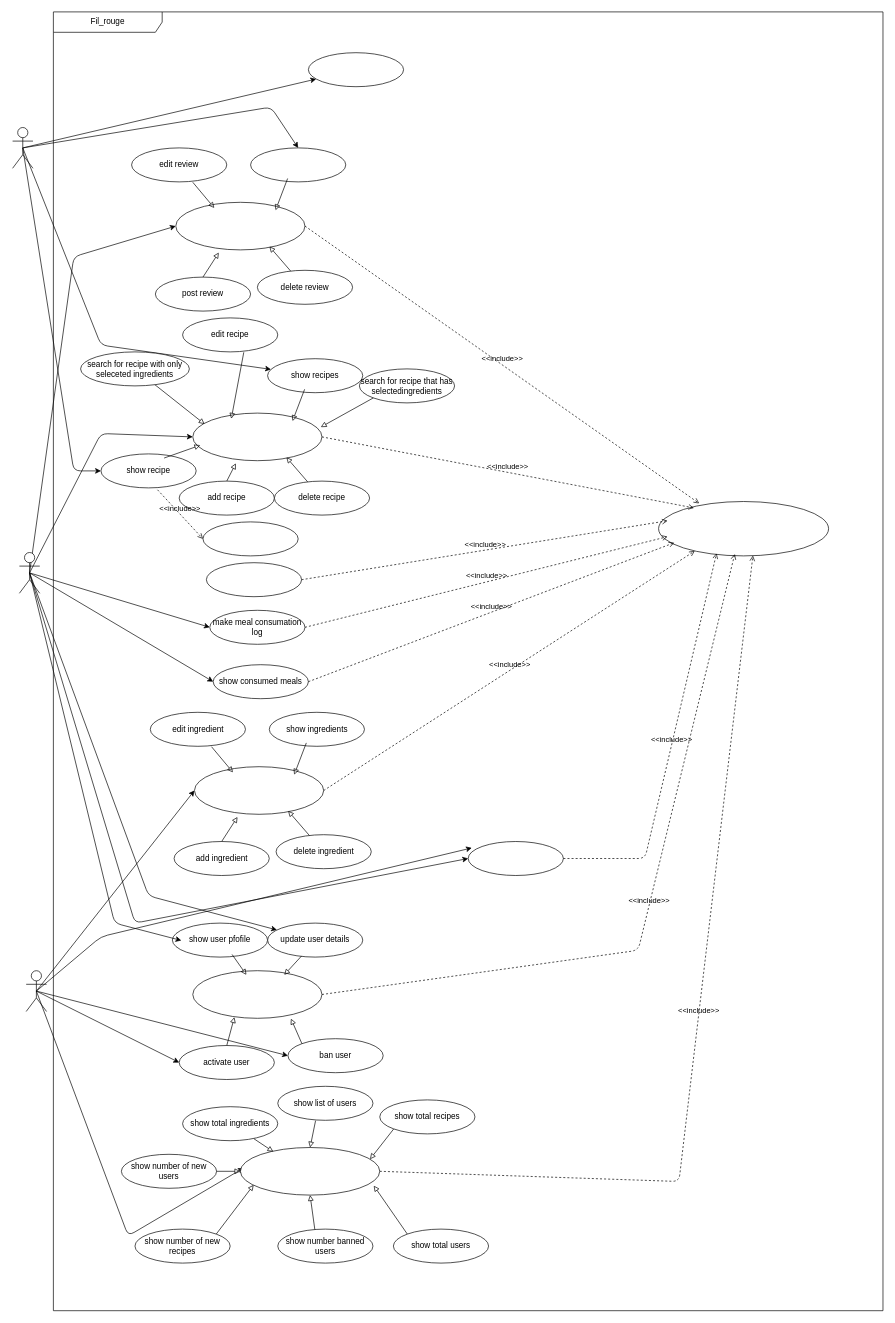
Some shapes in this 895 by 1323 pixel diagram are drawn without their labels. The shapes that lost their labels are listed below. From the top down, each one's centre as x and y in pixels, then its label:
point (356, 69): register
point (22, 147): Guest
point (298, 164): show recipe reviews
point (240, 226): Gestion review
point (257, 436): Gestion recettes
point (250, 538): calculate recipe macros
point (743, 528): login
point (29, 572): User
point (254, 579): calculate suggested daily macros
point (259, 790): Gestion ingredient
point (515, 858): logout
point (36, 991): Admin
point (257, 994): gestion utilisateurs
point (310, 1171): show stats
